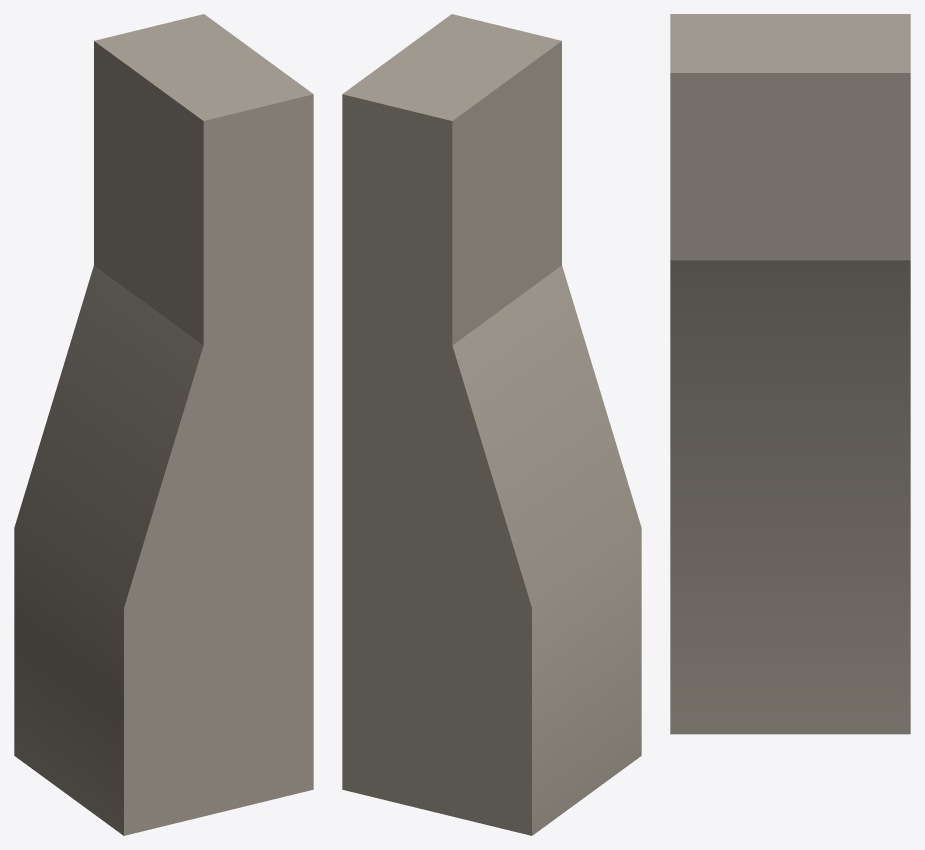
The model's file is SM_Pillar01.fbx.
3 views of the same model, side by side, from view 1: azimuth 30°, elevation 25°; view 2: azimuth 150°, elevation 25°; view 3: azimuth 270°, elevation 25° (orthographic). The views are drawn at different scales.
Visible parts, largest first — view 1: pCube61; view 2: pCube61; view 3: pCube61.
Part boxes in pixels (x1=…): pCube61: x1=14, y1=14, x2=313, y2=835; pCube61: x1=342, y1=14, x2=641, y2=835; pCube61: x1=670, y1=14, x2=910, y2=734.
Size of the model in its own units: 100 by 350 by 100.
